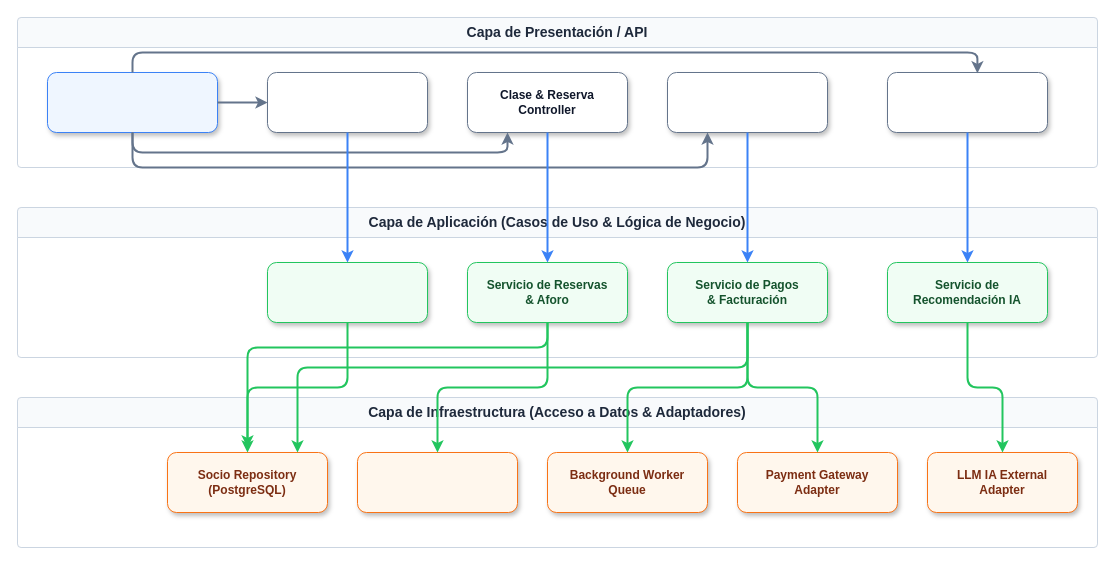
Some shapes in this 1115 by 565 pixel diagram are drawn without their labels. Here are the shapes that lost their labels. From the top down, the centre of each, then its label:
the point at 133,104: Security Auth Middleware (JWT / RBAC)
the point at 348,104: Socio Controller
the point at 748,104: Pago Controller
the point at 968,104: Asistente IA Controller
the point at 348,294: Servicio de Gestión de Socios
the point at 438,484: Redis Cache Adapter (Cupos)
